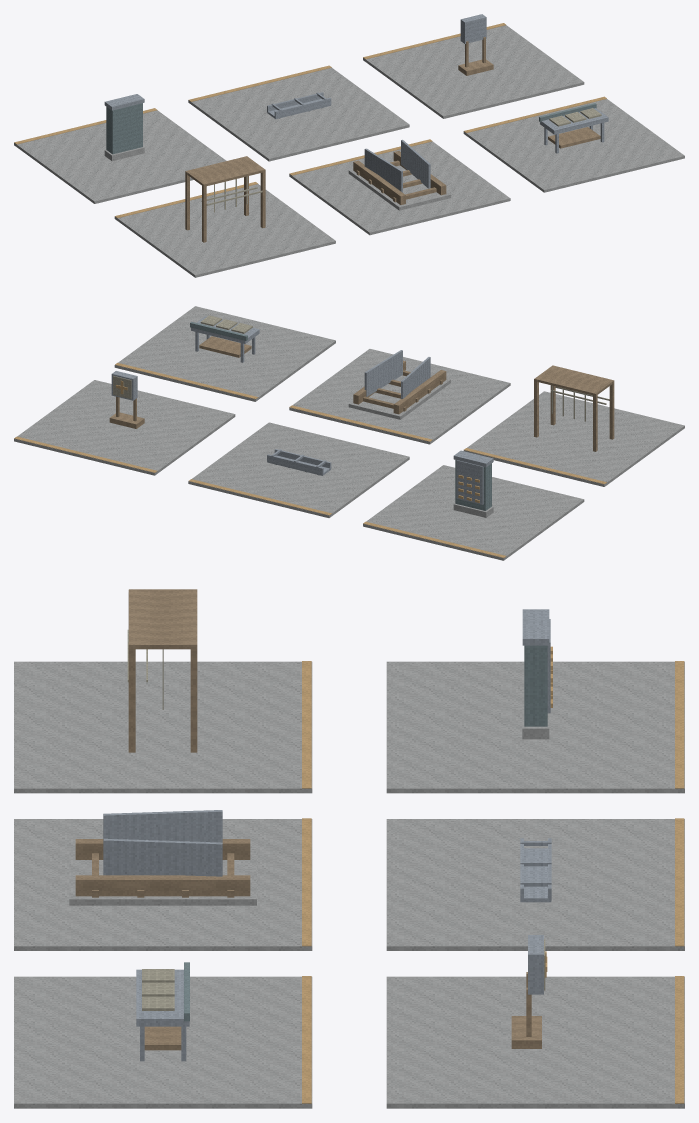
File: level_blockout_kit_wld_15_p02.glb
3 views of the same model, one above another, from view 1: azimuth 30°, elevation 25°; view 2: azimuth 150°, elevation 25°; view 3: azimuth 270°, elevation 25° (orthographic). The views are drawn at different scales.
Visible parts, largest first — view 1: level_blockout_kit_wld_15_p02; view 2: level_blockout_kit_wld_15_p02; view 3: level_blockout_kit_wld_15_p02.
Boxes of the visible parts, bbox=[...] form: level_blockout_kit_wld_15_p02: bbox=[14, 14, 684, 277]; level_blockout_kit_wld_15_p02: bbox=[14, 306, 684, 560]; level_blockout_kit_wld_15_p02: bbox=[14, 589, 684, 1108].
Size of the model in its own units: 19.65 by 2.33 by 12.6.
Materials: 7 (7 with a texture image).
